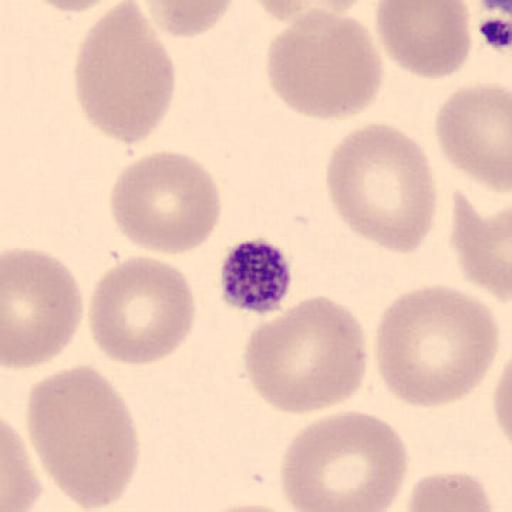Platelet: (218, 234, 296, 316)
RBC: (25, 364, 141, 509), (373, 282, 500, 409), (324, 119, 440, 255), (241, 294, 369, 417), (72, 1, 178, 149), (264, 8, 386, 122), (278, 409, 410, 512), (108, 148, 222, 257), (87, 254, 196, 367), (2, 245, 85, 371), (434, 80, 512, 192), (374, 0, 472, 80), (449, 196, 512, 302), (254, 0, 372, 35), (0, 419, 41, 512), (406, 469, 494, 512), (142, 0, 238, 38), (250, 0, 373, 24), (490, 317, 512, 448), (252, 0, 334, 23), (492, 358, 512, 442), (30, 0, 144, 14), (196, 499, 306, 511), (288, 0, 375, 14), (32, 0, 122, 13), (198, 502, 302, 512)
